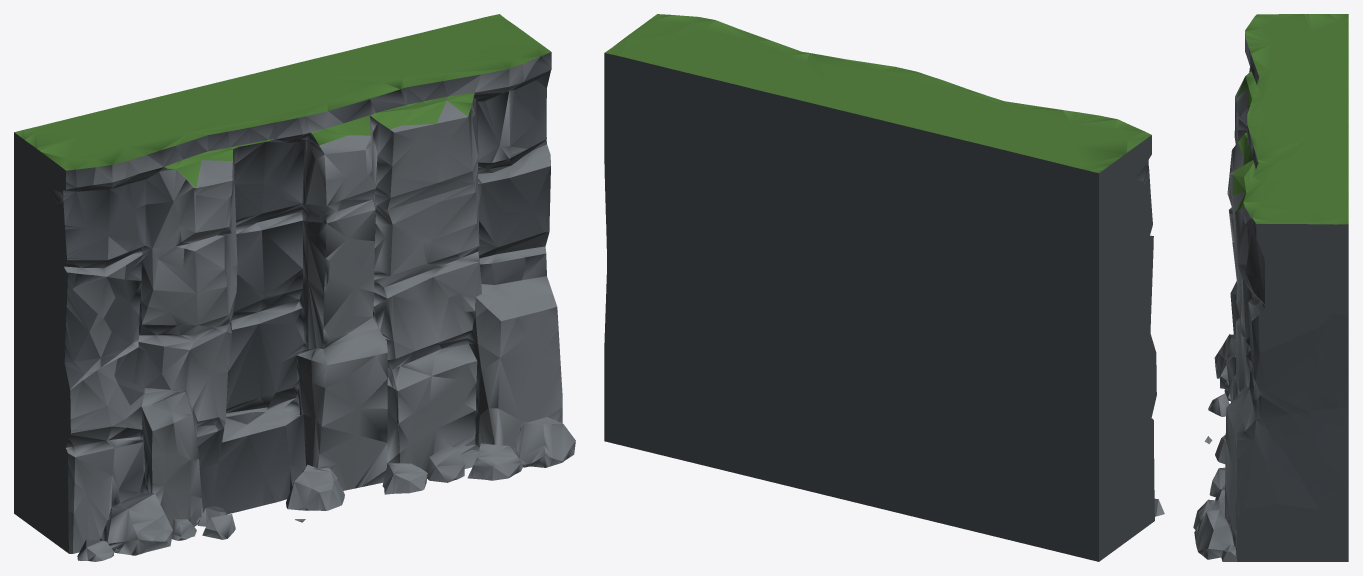
File: mdvl_nature_cliff_01.glb
3 views of the same model, side by side, from view 1: azimuth 30°, elevation 25°; view 2: azimuth 150°, elevation 25°; view 3: azimuth 270°, elevation 25° (orthographic). The views are drawn at different scales.
Visible parts, largest first — view 1: mdvl_nature_cliff_01; view 2: mdvl_nature_cliff_01; view 3: mdvl_nature_cliff_01.
Part boxes in pixels (x1=…): mdvl_nature_cliff_01: x1=14, y1=14, x2=575, y2=561; mdvl_nature_cliff_01: x1=604, y1=14, x2=1164, y2=561; mdvl_nature_cliff_01: x1=1193, y1=14, x2=1348, y2=561.
Bounding box in the file's own units: 4 × 3.01 × 1.25.
1 material, 1 textured.
